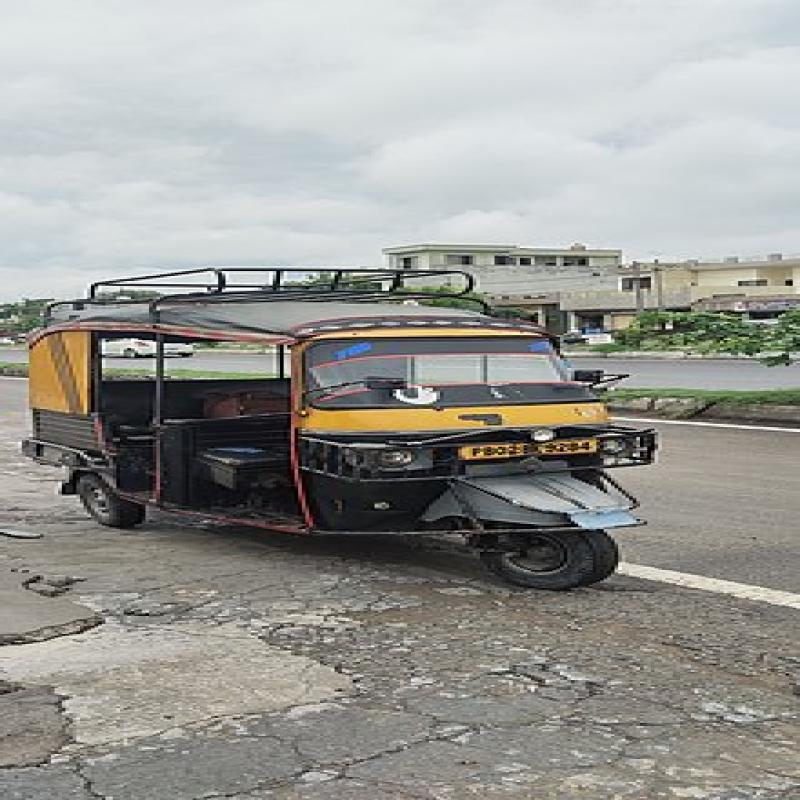auto: (24, 251, 667, 613)
